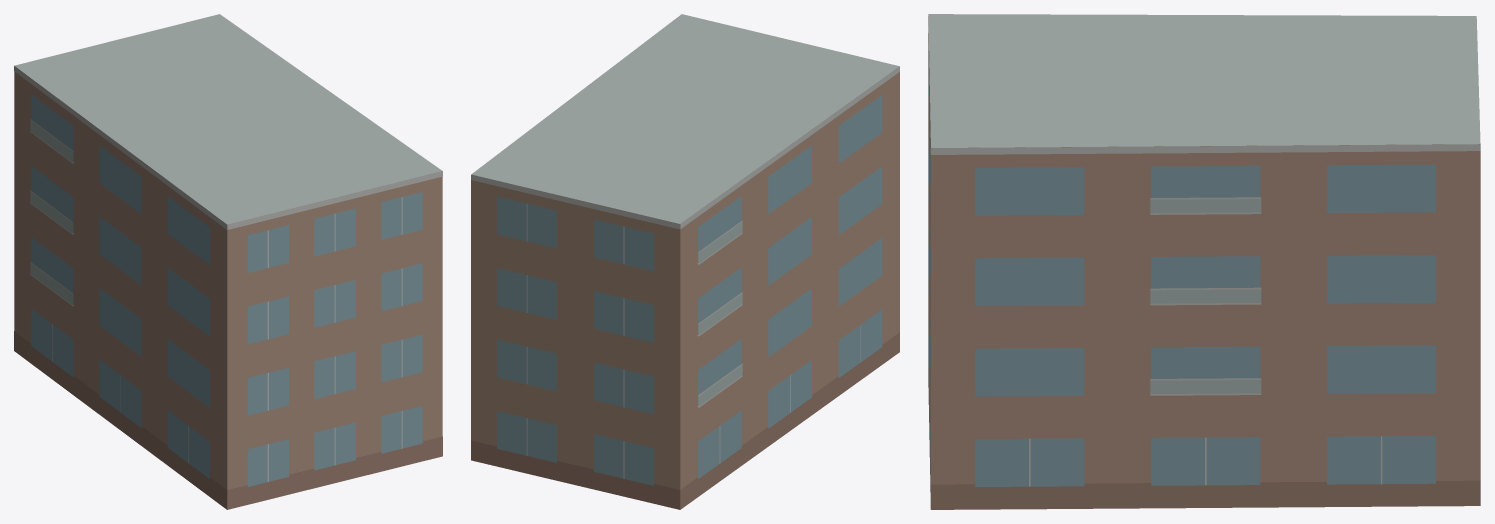
File: survey-upis-32760796.glb
3 views of the same model, side by side, from view 1: azimuth 30°, elevation 25°; view 2: azimuth 150°, elevation 25°; view 3: azimuth 270°, elevation 25° (orthographic). The views are drawn at different scales.
Parts seen in each view (by area): view 1: survey-upis-32760796.tmp; view 2: survey-upis-32760796.tmp; view 3: survey-upis-32760796.tmp.
Part boxes in pixels (box(x1,y1,x2,y2)): survey-upis-32760796.tmp: box(14, 14, 442, 509); survey-upis-32760796.tmp: box(471, 14, 899, 509); survey-upis-32760796.tmp: box(928, 14, 1480, 509).
Size of the model in its own units: 10.1 by 12.7 by 17.57.
